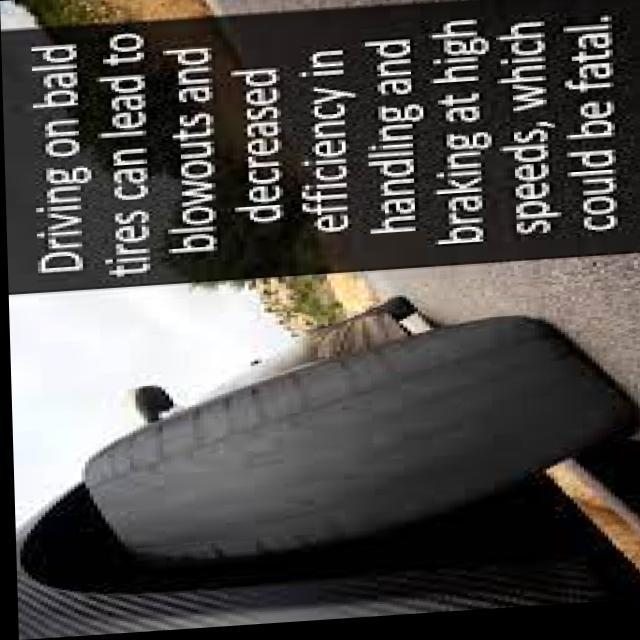Flat spots: (208, 405, 511, 485)
